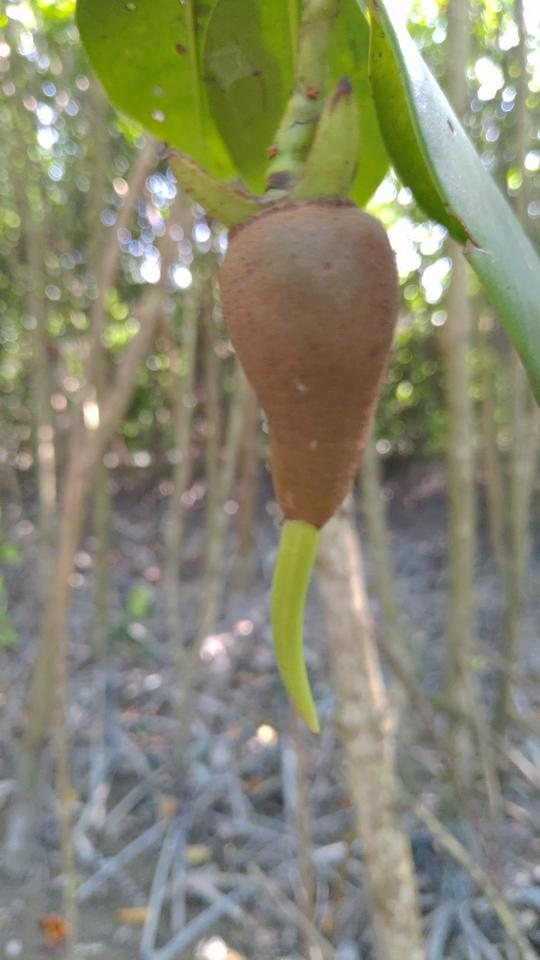mentah: (183, 179, 415, 758)
